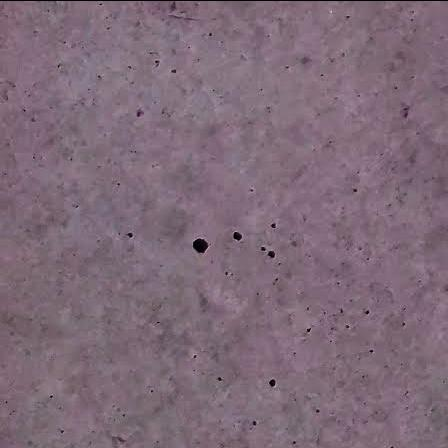spalling: (188, 232, 213, 257)
